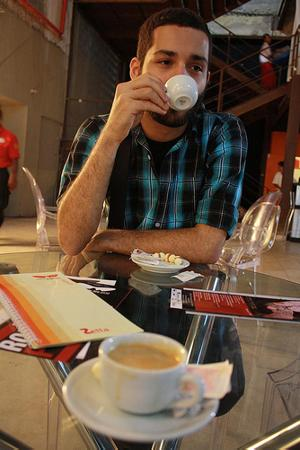person: (53, 8, 251, 268)
